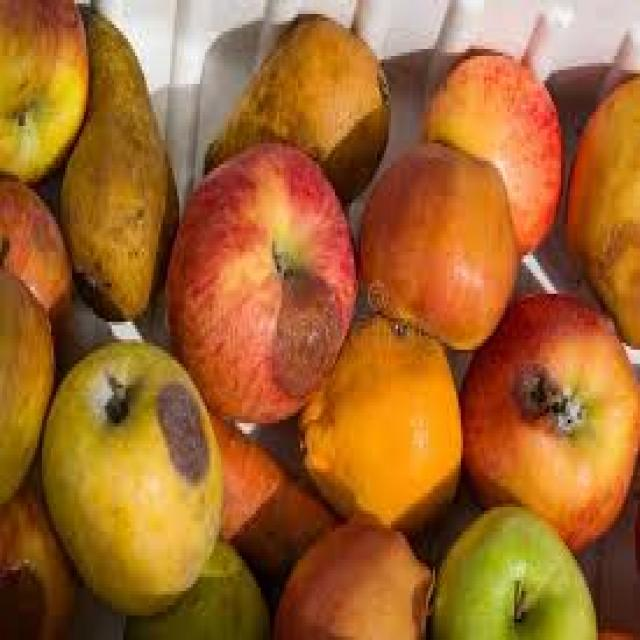organic waste: (163, 136, 356, 420), (40, 336, 221, 612), (456, 287, 638, 549), (56, 4, 177, 318), (200, 10, 386, 206), (296, 311, 460, 532), (356, 136, 514, 346), (423, 49, 561, 252), (202, 398, 338, 602), (426, 500, 596, 637), (563, 70, 638, 346), (270, 514, 431, 637), (0, 0, 86, 178), (121, 538, 270, 636), (0, 272, 54, 503), (0, 172, 70, 340), (0, 476, 72, 636), (630, 489, 638, 574), (596, 622, 638, 636)
